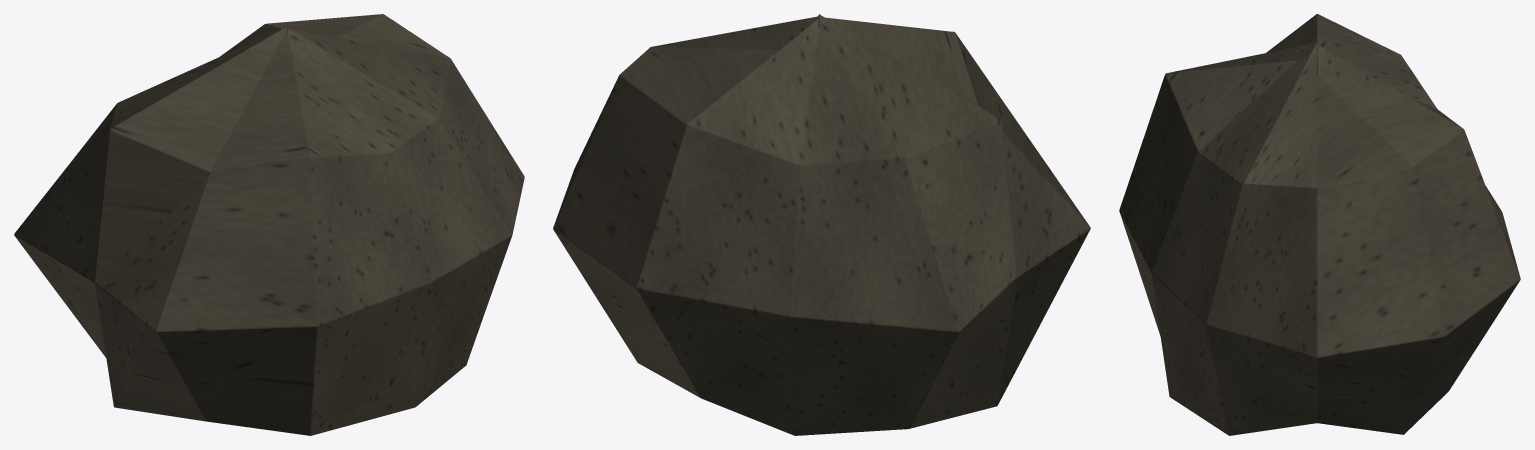
The model's file is PROP-25FFB21EAFCE_lod1.glb.
3 renders of one model, left to right at view 1: azimuth 30°, elevation 25°; view 2: azimuth 150°, elevation 25°; view 3: azimuth 270°, elevation 25°, orthographic. The views are drawn at different scales.
Visible parts, largest first — view 1: rock.004; view 2: rock.004; view 3: rock.004.
Boxes of the visible parts, x1,y1,x2,y2 form: rock.004: (14,14,524,435); rock.004: (553,14,1090,435); rock.004: (1119,14,1520,435).
Bounding box in the file's own units: 1.04 × 0.759 × 0.8314.
Materials: 1 (1 with a texture image).
